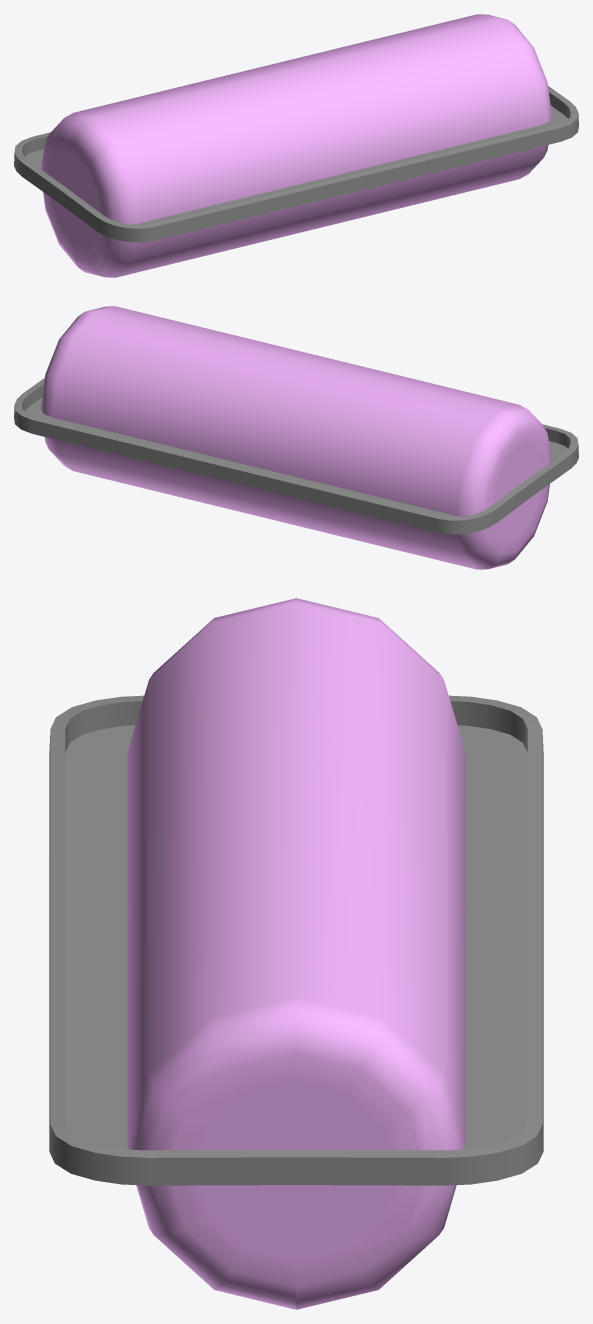
File: Obstacle_13.fbx
The picture shows the model from 3 angles, top to bottom: view 1: azimuth 30°, elevation 25°; view 2: azimuth 150°, elevation 25°; view 3: azimuth 270°, elevation 25°; orthographic projection. The views are drawn at different scales.
Parts seen in each view (by area): view 1: polySurface193, polySurface192; view 2: polySurface193, polySurface192; view 3: polySurface193, polySurface192.
Part boxes in pixels (box(x1,y1,x2,y2)): polySurface193: box(41, 14, 552, 277); polySurface192: box(14, 86, 578, 242); polySurface193: box(40, 306, 551, 569); polySurface192: box(14, 378, 578, 534); polySurface193: box(127, 598, 465, 1309); polySurface192: box(49, 695, 543, 1185).
Bounding box in the file's own units: 2.88 × 0.8945 × 1.3.
